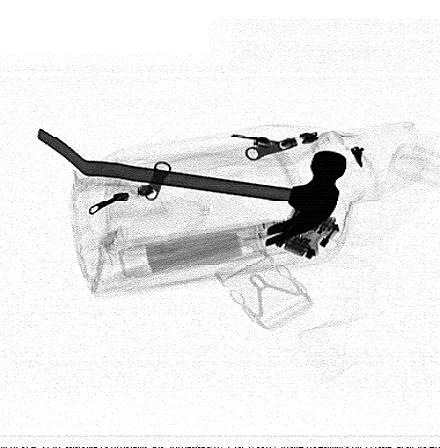Hammer: (37, 127, 348, 247)
